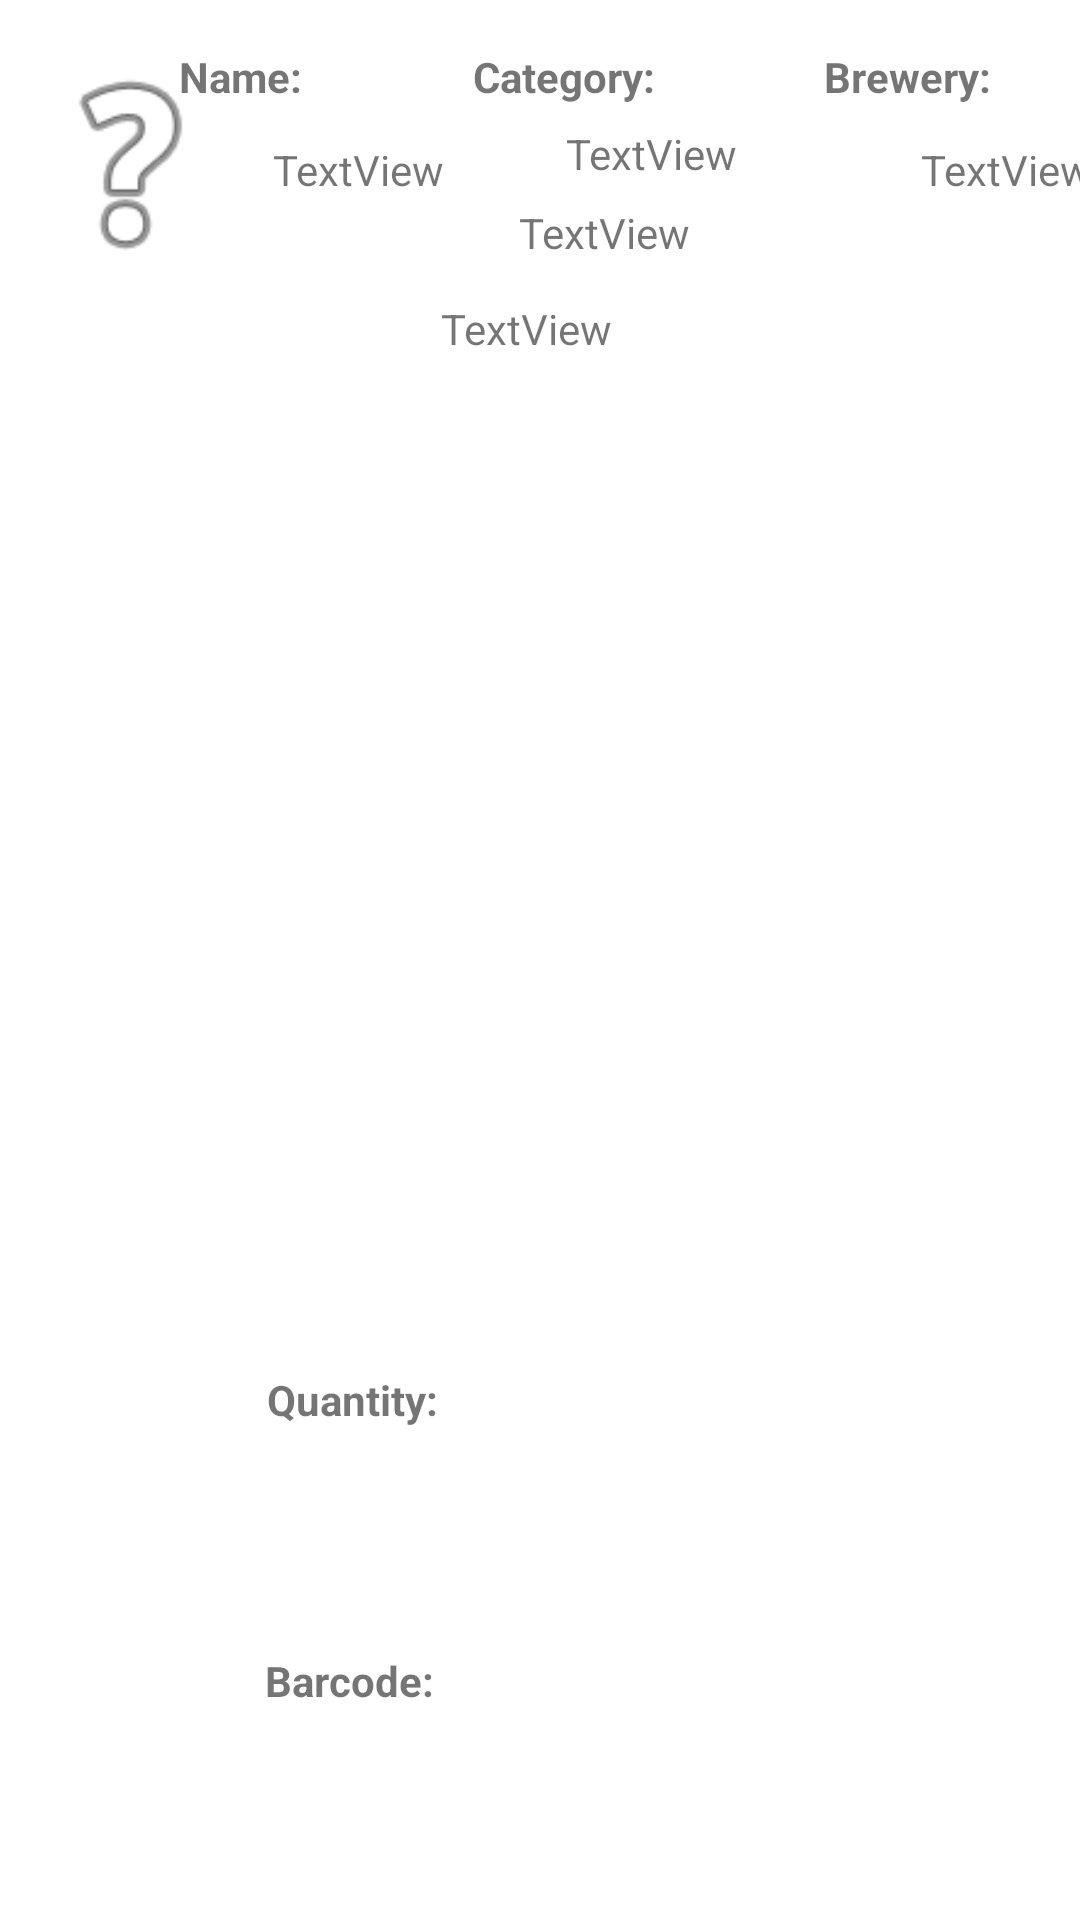

Screen size 1080x1920. Icon name, then its center in pixels as (x,y):
help: (154,156)
